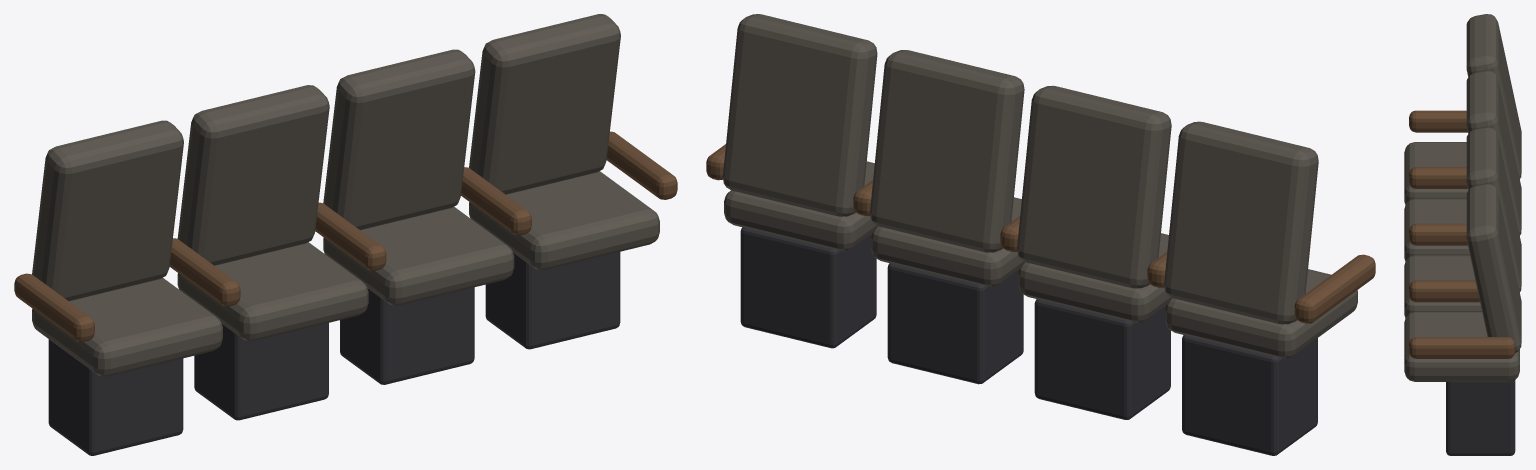
Rendered from cinema-row.glb.
3 renders of one model, left to right at view 1: azimuth 30°, elevation 25°; view 2: azimuth 150°, elevation 25°; view 3: azimuth 270°, elevation 25°, orthographic. The views are drawn at different scales.
Parts seen in each view (by area): view 1: cin_back_3, cin_back_0, cin_back_2, cin_back_1, cin_base_0, cin_seat_0, cin_seat_2, cin_seat_1, cin_seat_3, cin_base_3, cin_base_2, cin_base_1 (+5 smaller); view 2: cin_back_0, cin_back_3, cin_back_1, cin_back_2, cin_base_0, cin_base_1, cin_base_2, cin_base_3, cin_seat_0, cin_seat_1, cin_seat_2, cin_seat_3 (+1 smaller); view 3: cin_back_3, cin_base_3, cin_seat_3, cin_back_1, cin_back_2, cin_back_0, cin_seat_2, cin_seat_1, cin_seat_0, cin_arm_4, cin_arm_3, cin_arm_2 (+2 smaller).
Part boxes in pixels (<box>): cin_back_3: <box>469,14,620,194</box>; cin_back_0: <box>32,120,183,301</box>; cin_back_2: <box>323,49,475,230</box>; cin_back_1: <box>177,85,329,265</box>; cin_base_0: <box>48,339,183,455</box>; cin_seat_0: <box>32,278,222,376</box>; cin_seat_2: <box>323,207,514,305</box>; cin_seat_1: <box>177,242,368,341</box>; cin_seat_3: <box>469,171,659,269</box>; cin_base_3: <box>485,252,620,349</box>; cin_base_2: <box>340,287,474,384</box>; cin_base_1: <box>194,323,328,420</box>; cin_back_0: <box>1164,121,1318,324</box>; cin_back_3: <box>722,14,877,216</box>; cin_back_1: <box>1017,85,1171,288</box>; cin_back_2: <box>870,50,1024,252</box>; cin_base_0: <box>1182,335,1317,455</box>; cin_base_1: <box>1034,299,1170,419</box>; cin_base_2: <box>887,263,1023,384</box>; cin_base_3: <box>740,227,876,348</box>; cin_seat_0: <box>1165,269,1357,358</box>; cin_seat_1: <box>1018,233,1171,322</box>; cin_seat_2: <box>871,197,1024,286</box>; cin_seat_3: <box>724,161,877,250</box>; cin_back_3: <box>1466,184,1521,352</box>; cin_base_3: <box>1446,380,1515,455</box>; cin_seat_3: <box>1404,312,1519,381</box>; cin_back_1: <box>1466,70,1521,235</box>; cin_back_2: <box>1466,127,1521,292</box>; cin_back_0: <box>1466,14,1521,178</box>; cin_seat_2: <box>1404,255,1481,317</box>; cin_seat_1: <box>1404,198,1469,261</box>; cin_seat_0: <box>1404,142,1468,204</box>; cin_arm_4: <box>1409,337,1515,358</box>; cin_arm_3: <box>1409,280,1479,302</box>; cin_arm_2: <box>1409,223,1467,245</box>.
Bounding box in the file's own units: 2.4 × 1.12 × 0.5074.
